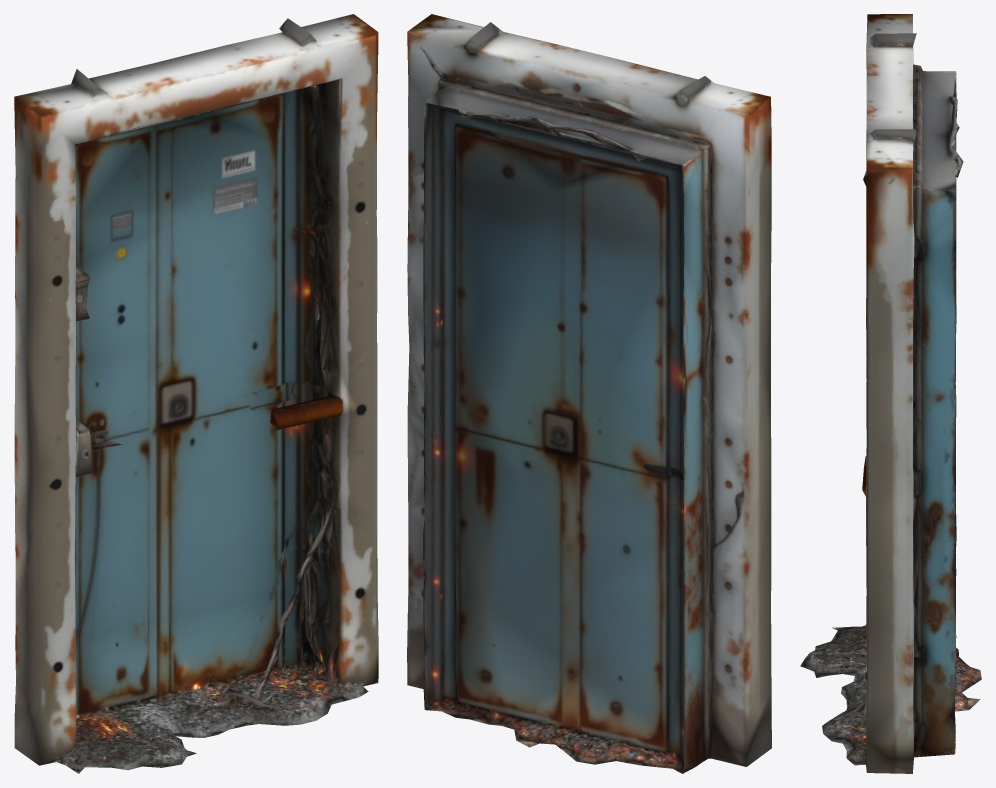
Rendered from broken_futuristic_lab_1203062257_texture.fbx.
The picture shows the model from 3 angles, left to right: view 1: azimuth 30°, elevation 25°; view 2: azimuth 150°, elevation 25°; view 3: azimuth 270°, elevation 25°; orthographic projection. The views are drawn at different scales.
Parts seen in each view (by area): view 1: Mesh1.0; view 2: Mesh1.0; view 3: Mesh1.0.
Part boxes in pixels (bbox=[...]): Mesh1.0: bbox=[14, 14, 378, 773]; Mesh1.0: bbox=[407, 14, 771, 773]; Mesh1.0: bbox=[800, 14, 981, 773].
Size of the model in its own units: 103 by 192 by 51.25.
1 material, 1 textured.
